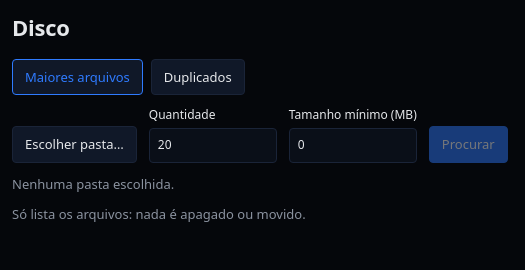
it: Disco › duplicados vazio mostra o estado vazio
The width and height of the screenshot is (525, 270).
Click the tab "Duplicados" at (198, 77), box [151, 59, 245, 95]
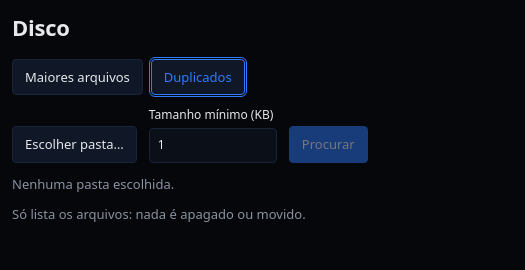
Click the button "Escolher pasta…" at (74, 144), box [12, 126, 137, 163]
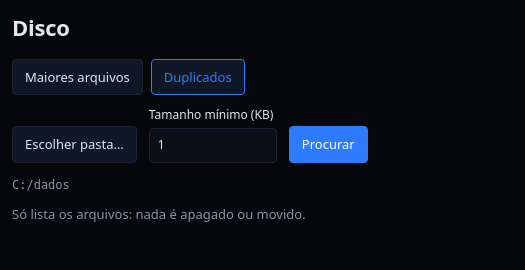
Result: the text "C:/dados" is shown at [12, 178, 70, 192]
Click the button "Procurar" at (328, 144), box [289, 126, 368, 163]
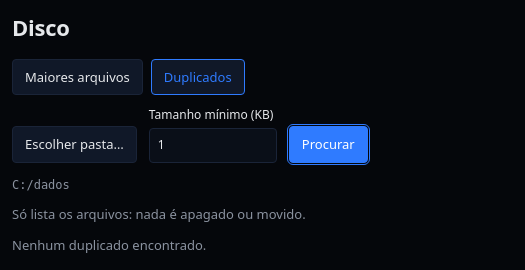
Result: the text "Nenhum duplicado encontrado." is shown at [12, 236, 206, 254]
